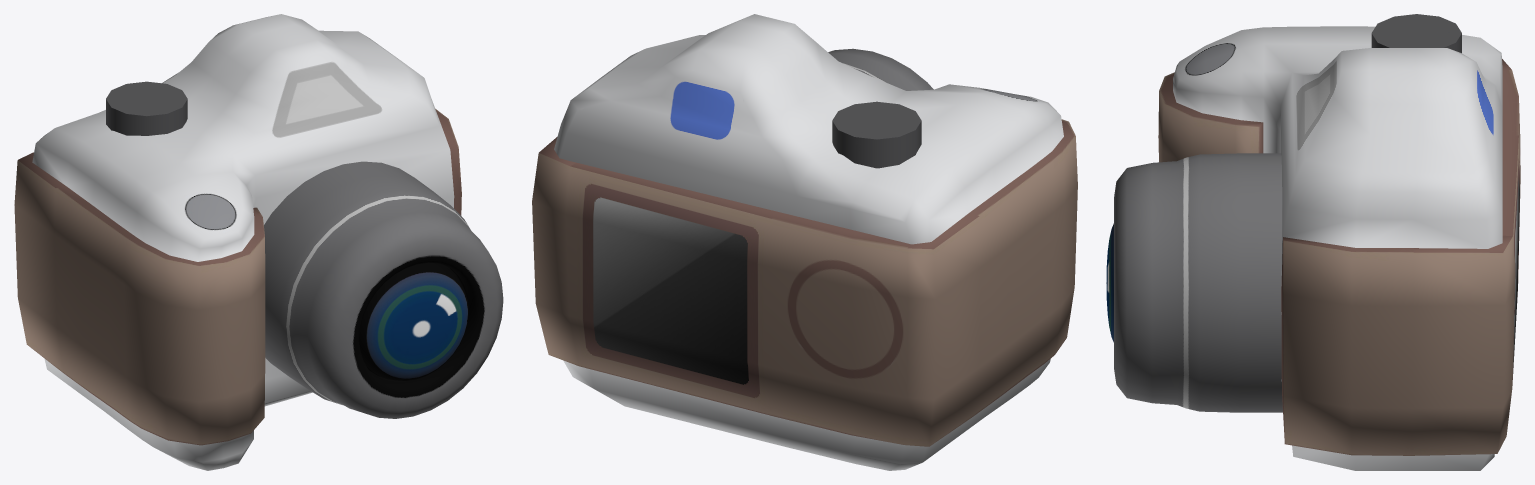
Rendered from camera.fbx.
3 renders of one model, left to right at view 1: azimuth 30°, elevation 25°; view 2: azimuth 150°, elevation 25°; view 3: azimuth 270°, elevation 25°, orthographic. The views are drawn at different scales.
Visible parts, largest first — view 1: Camera; view 2: Camera; view 3: Camera.
Part boxes in pixels (x1,y1,x2,y2): Camera: (14, 14, 503, 470); Camera: (532, 14, 1077, 470); Camera: (1106, 14, 1520, 470).
Size of the model in its own units: 131 by 109 by 114.
Materials: 1 (1 with a texture image).
